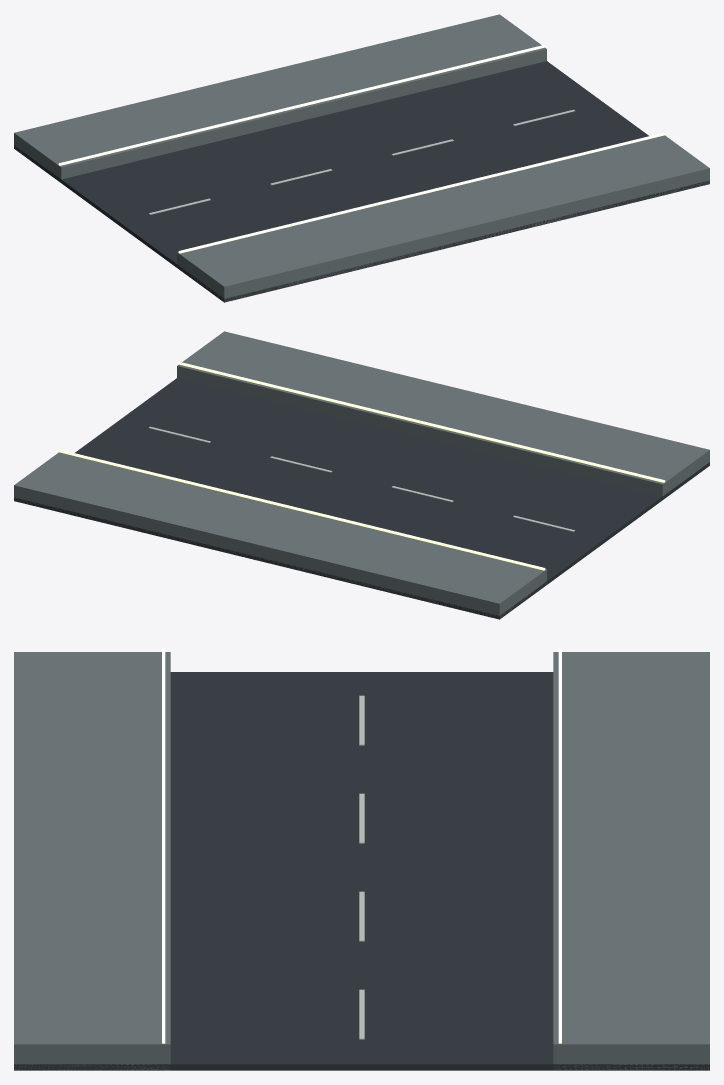
Rendered from street-tile.lod2.glb.
3 renders of one model, top to bottom at view 1: azimuth 30°, elevation 25°; view 2: azimuth 150°, elevation 25°; view 3: azimuth 270°, elevation 25°, orthographic. The views are drawn at different scales.
Parts seen in each view (by area): view 1: structure; view 2: structure; view 3: structure.
Boxes of the visible parts, box(x1,y1,x2,y2) form: structure: box(14, 14, 709, 302); structure: box(14, 331, 709, 619); structure: box(14, 648, 709, 1070).
Bounding box in the file's own units: 16 × 0.57 × 12.
